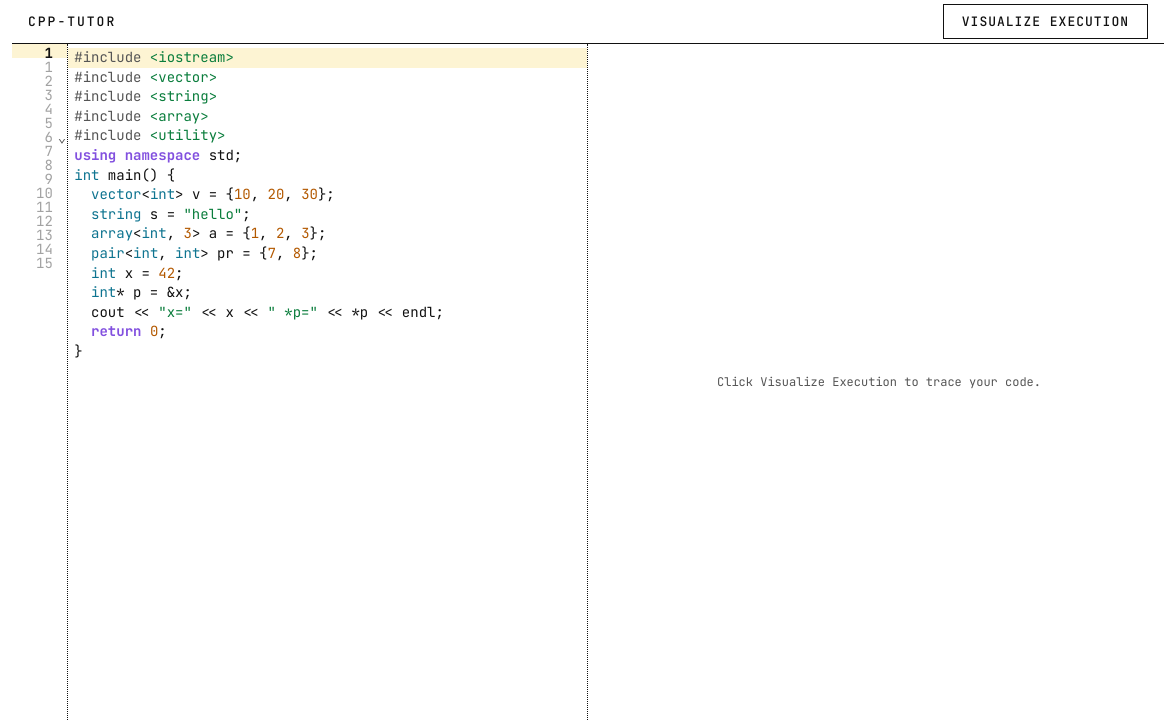
App shell › highlights the compile-error line in the editor
Click the button "Visualize Execution" at {"x": 1045, "y": 22}, box [943,4,1148,39]
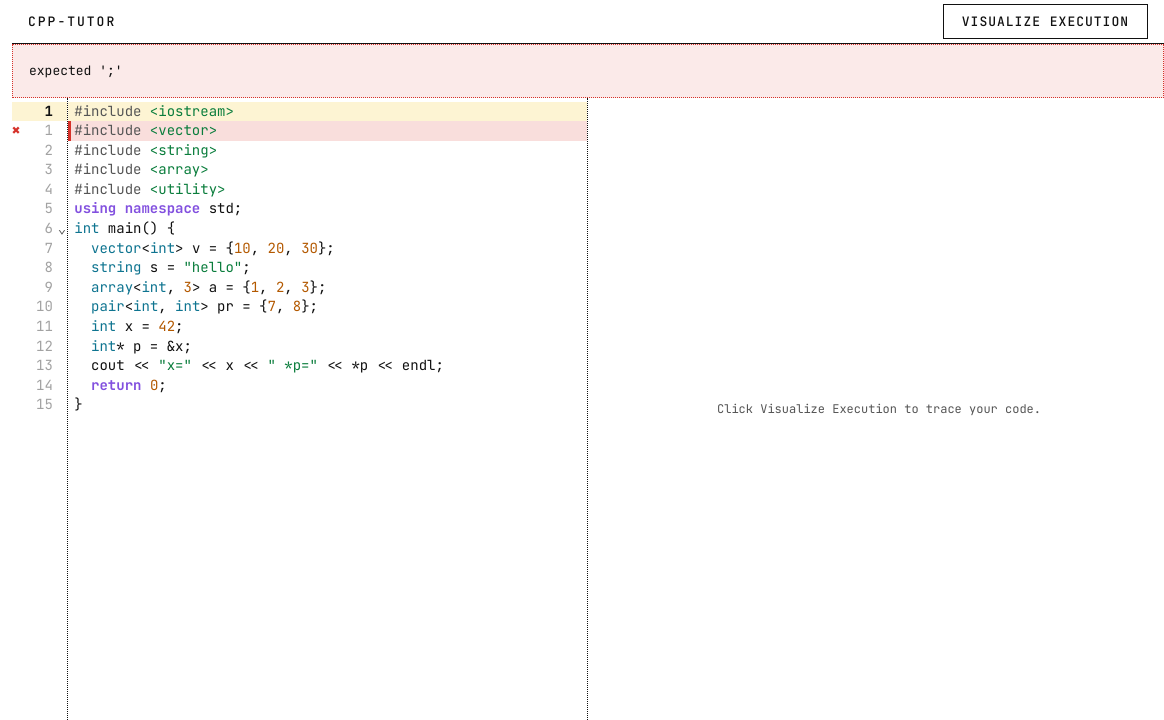
Check: the text "expected ';'" is shown, box [12,44,1163,98]
Check: the text box with class "cm-error-line" is shown, box [68,121,587,141]
Check: the text "✖" is shown, box [12,121,20,139]
